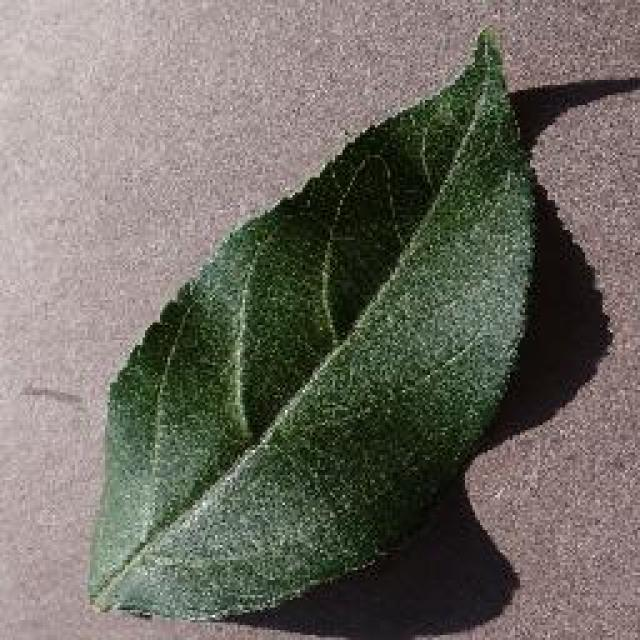apple healthy: (82, 25, 540, 623)
